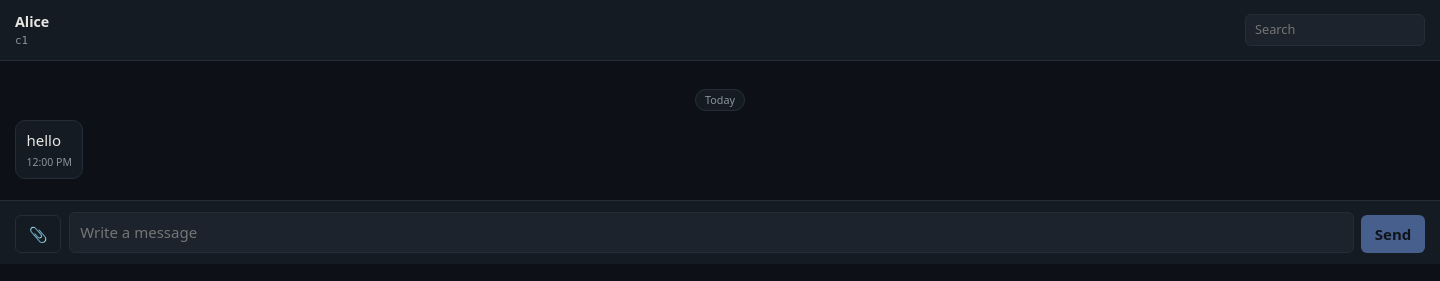
Test: reactions and search in the chat view › says so when a search matches nothing
In the search field named "Search this conversation": (1335, 30) x1=1245 y1=14 x2=1425 y2=46, type "zzzz"
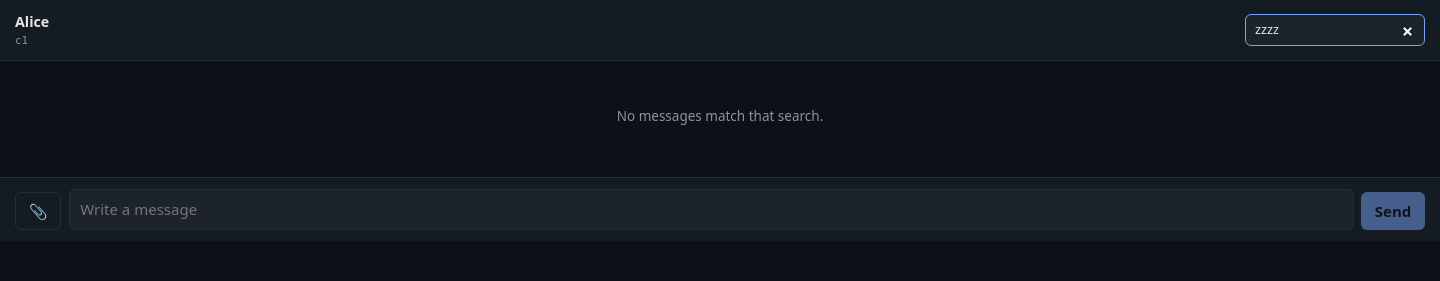
Expected: the text "No messages match that search." is shown, x1=617 y1=107 x2=823 y2=125
